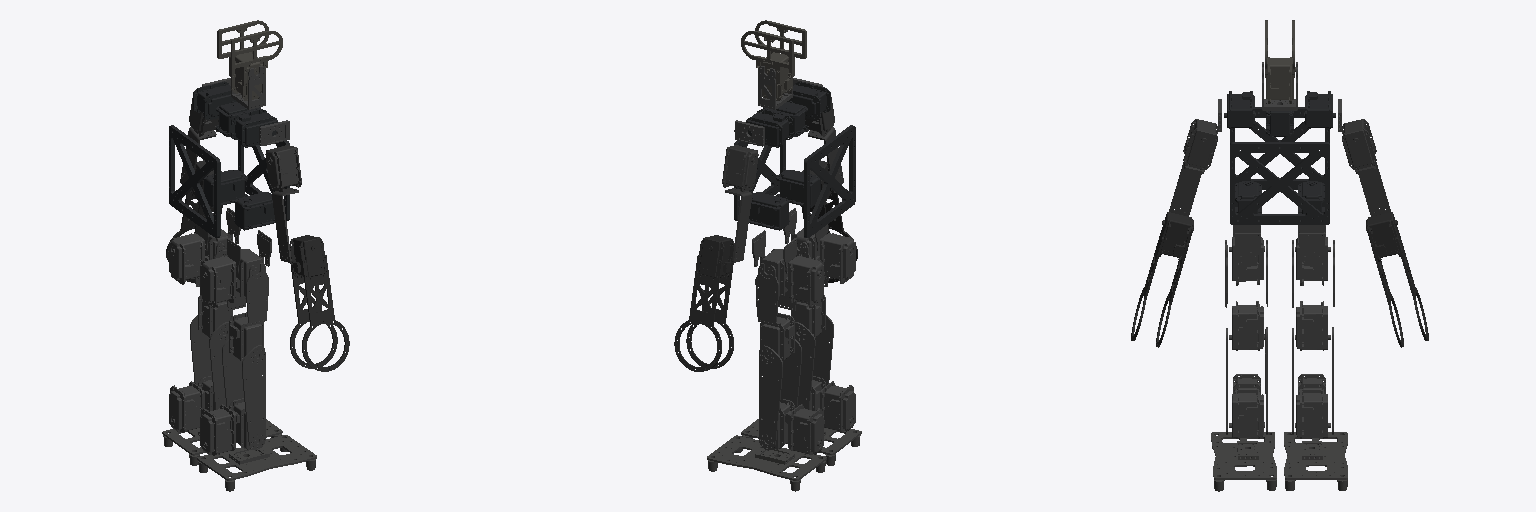
--- Render facts (derived) ---
The picture shows the robot from 3 angles, left to right: view 1: azimuth 30°, elevation 25°; view 2: azimuth 150°, elevation 25°; view 3: azimuth 270°, elevation 25°; orthographic projection.
Robot: sigmaban — 31 links, 30 joints (20 revolute, 10 fixed); root link base_link; default pose: every joint at zero.
Visible links, largest first — view 1: torso_2023, radius_v2_2, tibia_2023_2, right_foot_cleat_back_left, right_knee_2023, head_2023__field_of_view_false, mx106_block_mir_hip__list_mr67plvazplf9a_hip, right_humerus, mx106_block_ankle__list_0bj1pweadmbeeq_default, tibia_2023, mx106_block_hip__list_0bj1pweadmbeeq_hip, mx106_block_mir_ankle (+7 smaller); view 2: torso_2023, radius_v2, tibia_2023, left_foot_cleat_front_right, left_knee_2023, head_2023__field_of_view_false, left_humerus, mx106_block_hip__list_0bj1pweadmbeeq_hip, mx106_block_mir_ankle, tibia_2023_2, mx106_block_mir_hip__list_mr67plvazplf9a_hip, mx106_block_ankle__list_0bj1pweadmbeeq_default (+7 smaller); view 3: torso_2023, right_foot_cleat_back_left, left_foot_cleat_front_right, left_humerus, right_humerus, radius_v2, radius_v2_2, mx106_block_mir_ankle, mx106_block_ankle__list_0bj1pweadmbeeq_default, right_knee_2023, left_knee_2023, head_2023__field_of_view_false (+5 smaller).
Boxes of the visible links, x1,y1,x2,y2 form: torso_2023: [169, 81, 289, 237]; radius_v2_2: [290, 235, 349, 371]; tibia_2023_2: [222, 339, 265, 449]; right_foot_cleat_back_left: [197, 435, 316, 491]; right_knee_2023: [227, 263, 268, 361]; head_2023__field_of_view_false: [217, 20, 282, 100]; mx106_block_mir_hip__list_mr67plvazplf9a_hip: [200, 249, 263, 307]; right_humerus: [265, 145, 301, 262]; mx106_block_ankle__list_0bj1pweadmbeeq_default: [200, 398, 261, 455]; tibia_2023: [190, 315, 228, 409]; mx106_block_hip__list_0bj1pweadmbeeq_hip: [169, 229, 232, 284]; mx106_block_mir_ankle: [169, 376, 217, 432]; torso_2023: [734, 82, 855, 237]; radius_v2: [674, 235, 734, 371]; tibia_2023: [759, 339, 801, 449]; left_foot_cleat_front_right: [707, 435, 826, 491]; left_knee_2023: [755, 249, 796, 360]; head_2023__field_of_view_false: [741, 20, 806, 100]; left_humerus: [722, 145, 758, 262]; mx106_block_hip__list_0bj1pweadmbeeq_hip: [760, 249, 823, 306]; mx106_block_mir_ankle: [765, 399, 823, 454]; tibia_2023_2: [795, 315, 833, 409]; mx106_block_mir_hip__list_mr67plvazplf9a_hip: [791, 228, 855, 283]; mx106_block_ankle__list_0bj1pweadmbeeq_default: [810, 376, 855, 432]; torso_2023: [1224, 91, 1335, 224]; right_foot_cleat_back_left: [1211, 432, 1276, 491]; left_foot_cleat_front_right: [1284, 432, 1347, 490]; left_humerus: [1342, 119, 1390, 216]; right_humerus: [1169, 119, 1217, 216]; radius_v2: [1366, 212, 1428, 347]; radius_v2_2: [1131, 212, 1193, 347]; mx106_block_mir_ankle: [1295, 374, 1330, 438]; mx106_block_ankle__list_0bj1pweadmbeeq_default: [1229, 374, 1264, 438]; right_knee_2023: [1225, 240, 1267, 350]; left_knee_2023: [1292, 240, 1334, 350]; head_2023__field_of_view_false: [1265, 20, 1295, 103].
Size in the robot's own frame: 0.1692 by 0.4293 by 0.7013 metres.
21 mesh visuals loaded from 21 distinct referenced files (21 binary STL).

The robot description file, URDF, robot "sigmaban":
<robot name="sigmaban">

<link name="base_link" />

<!-- Shapes for x_plate_23_front -->
<link name="torso_2023">
<collision>
<origin xyz="0.060389204868665502524 1.4717405120971200828e-07 0.068082300000000012252" rpy="-1.570796326794896558 6.895308295167207679e-17 -1.570796326794896558" />
<geometry>
<box size="0.14499999999999999001 0.1155920000000000003 0.0060000000000000001249" />
</geometry>
</collision>
<!-- Shapes for mx-64at_ar -->
<collision>
<origin xyz="0.020939204868665975412 0.046400147174051414867 0.02200000000001074707" rpy="3.1415926535897691352 -1.3138215008622163751e-14 -1.570796326794896336" />
<geometry>
<box size="0.040199999999999999623 0.061100000000000001532 0.041000000000000001721" />
</geometry>
</collision>
<!-- Shapes for mx-64at_ar -->
<collision>
<origin xyz="0.020939204868666350112 -0.046399852825948745272 0.02200000000001099687" rpy="3.1415926535897495953 -1.2771348726224209355e-14 -1.5707963267949036634" />
<geometry>
<box size="0.040199999999999999623 0.061100000000000001532 0.041000000000000001721" />
</geometry>
</collision>
<!-- Shapes for mx-64at_ar -->
<collision>
<origin xyz="0.01583920486865465771 1.471740505627167706e-07 0.15700000000000038924" rpy="-2.0985643641962011544e-15 -2.5607325653630936744e-16 -1.570796326794896558" />
<geometry>
<box size="0.040199999999999999623 0.061100000000000001532 0.041000000000000001721" />
</geometry>
</collision>
<!-- Shapes for x_plate_23_front -->
<collision>
<origin xyz="-0.059610795131336914709 1.4717404883173641263e-07 0.071917699999998543903" rpy="1.5707963267948952257 7.9211561423418466212e-15 1.570796326794896558" />
<geometry>
<box size="0.14499999999999999001 0.1155920000000000003 0.0060000000000000001249" />
</geometry>
</collision>
<!-- Shapes for mx-64at_ar -->
<collision>
<origin xyz="0.010839204868674762183 0.056000147174040608433 0.16400000000000933276" rpy="-1.5707963267948805708 -1.5707963267948898967 0" />
<geometry>
<box size="0.040199999999999999623 0.061100000000000001532 0.041000000000000001721" />
</geometry>
</collision>
<!-- Shapes for mx-64at_ar -->
<collision>
<origin xyz="0.010839204868674713611 -0.055999852825940207857 0.16400000000001024869" rpy="1.5707963267948803487 1.5707963267948898967 0" />
<geometry>
<box size="0.040199999999999999623 0.061100000000000001532 0.041000000000000001721" />
</geometry>
</collision>
<visual>
<origin xyz="0 0 0" rpy="0 -0 0" />
<geometry>
<mesh filename="package://sigmaban_description/urdf/torso_2023_visual.stl"/>
</geometry>
<material name="torso_2023_material">
<color rgba="0.19899150351318967145 0.20531734779085583642 0.21164319206852200139 1.0"/>
</material>
</visual>
<inertial>
<origin xyz="0.002404191551789617437 0.00058179701409666133814 0.069312406945558138749" rpy="0 0 0"/>
<mass value="3.209475452296372211" />
<inertia ixx="0.018197261163386959509" ixy="3.9679899281069150514e-05"  ixz="0.00040820634538382894645" iyy="0.016253016131205444417" iyz="-0.0001554682564299787826" izz="0.010276323694102498102" />
</inertial>
</link>

<joint name="base_link_fake_joint" type="fixed">
    <origin xyz="0 0 0" rpy="0 0 0"/>
    <parent link="base_link"/>
    <child link="torso_2023"/>
</joint>

<link name="head_base">
<inertial>
<origin xyz="0 0 0" rpy="0 0 0" />
<mass value="1e-9" />
<inertia ixx="0" ixy="0" ixz="0" iyy="0" iyz="0" izz="0" />
</inertial>
</link>
<joint name="head_base_frame" type="fixed">
<origin xyz="0.033389204868654910607 1.4717405055631460442e-07 0.18300000000001087619" rpy="-1.2246467991473633145e-16 -2.2088105346187814874e-29 1.4393641492882479269e-28" />
<parent link="torso_2023" />
<child link="head_base" />
<axis xyz="0 0 0"/>
</joint>

<link name="trunk">
<inertial>
<origin xyz="0 0 0" rpy="0 0 0" />
<mass value="1e-9" />
<inertia ixx="0" ixy="0" ixz="0" iyy="0" iyz="0" izz="0" />
</inertial>
</link>
<joint name="trunk_frame" type="fixed">
<origin xyz="0.060889204868665502968 1.4717405119935517762e-07 0.0024999999999999996184" rpy="-8.2672622867162037207e-28 -0 -2.2402855000300105724e-59" />
<parent link="torso_2023" />
<child link="trunk" />
<axis xyz="0 0 0"/>
</joint>

<link name="u_neck">
<!-- Shapes for u_side_neck -->
<collision>
<origin xyz="0.024999999999999980571 1.9733087385364363632e-16 0.032901041851021092799" rpy="1.5707963267948976682 3.8654184355828463032e-29 -1.5707963267948958919" />
<geometry>
<box size="0.02999999999999999889 0.065802000000000013258 0.0030000000000000000625" />
</geometry>
</collision>
<!-- Shapes for u_side_neck -->
<collision>
<origin xyz="-0.024999999999999966693 -6.3823946217424702993e-18 0.032901041851021231577" rpy="1.570796326794896558 -1.1832913578314774909e-29 1.5707963267948970021" />
<geometry>
<box size="0.02999999999999999889 0.065802000000000013258 0.0030000000000000000625" />
</geometry>
</collision>
<!-- Shapes for u_base_64 -->
<collision>
<origin xyz="0 6.9388939039072299184e-18 0.0031250000000000001735" rpy="-3.141592653589793116 -0 6.6680722587749828369e-32" />
<geometry>
<box size="0.049000000000000001887 0.02999999999999999889 0.0062500000000000003469" />
</geometry>
</collision>
<visual>
<origin xyz="0 0 0" rpy="0 -0 0" />
<geometry>
<mesh filename="package://sigmaban_description/urdf/u_neck_visual.stl"/>
</geometry>
<material name="u_neck_material">
<color rgba="0.30196078431372541662 0.30196078431372541662 0.30196078431372541662 1.0"/>
</material>
</visual>
<inertial>
<origin xyz="6.2190491371535006904e-18 5.9578490733930535427e-17 0.020633402679855899348" rpy="0 0 0"/>
<mass value="0.054479900613359222294" />
<inertia ixx="3.0578702573708491281e-05" ixy="-1.35944226682749599e-11"  ixz="8.6291481501531847043e-20" iyy="5.16951967684507277e-05" iyz="-1.3658406274475592967e-20" izz="2.9852490907290876406e-05" />
</inertial>
</link>

<link name="head_2023__field_of_view_false">
<!-- Shapes for head_plate_g_2023 -->
<collision>
<origin xyz="-0.023800000000009986778 0.03650000000001005912 -0.0049999999999899985559" rpy="-3.141592653589793116 8.3007013600425831728e-32 3.141592653589793116" />
<geometry>
<cylinder length="0.0030000000000000000625" radius="0.023500000000000000056" />
</geometry>
</collision>
<collision>
<origin xyz="0.0099999999999900099357 0.03650000000001005912 -0.0049999999999899985559" rpy="-3.141592653589793116 8.3007013600425831728e-32 3.141592653589793116" />
<geometry>
<box size="0.061600000000000001976 0.047000000000000000111 0.0030000000000000000625" />
</geometry>
</collision>
<!-- Shapes for head_plate_d_2023 -->
<collision>
<origin xyz="-0.023799999999999980893 0.036500000000000011602 -0.049000000000000001887" rpy="-3.141592653589793116 8.3007013600425831728e-32 3.141592653589793116" />
<geometry>
<cylinder length="0.0030000000000000000625" radius="0.023500000000000000056" />
</geometry>
</collision>
<collision>
<origin xyz="0.010000000000000015821 0.036500000000000011602 -0.049000000000000001887" rpy="-3.141592653589793116 8.3007013600425831728e-32 3.141592653589793116" />
<geometry>
<box size="0.061600000000000001976 0.047000000000000000111 0.0030000000000000000625" />
</geometry>
</collision>
<!-- Shapes for mx-64at_ar -->
<collision>
<origin xyz="6.9222544433143798142e-33 -0.017549999999999975342 -0.023500000000000000056" rpy="-4.9303806576313237838e-32 -8.3007013600425831728e-32 0" />
<geometry>
<box size="0.040199999999999999623 0.061100000000000001532 0.041000000000000001721" />
</geometry>
</collision>
<visual>
<origin xyz="0 0 0" rpy="0 -0 0" />
<geometry>
<mesh filename="package://sigmaban_description/urdf/head_2023__field_of_view_false_visual.stl"/>
</geometry>
<material name="head_2023__field_of_view_false_material">
<color rgba="0.32045575682762955649 0.3148738338185399499 0.29812806479127113013 1.0"/>
</material>
</visual>
<inertial>
<origin xyz="-0.00014727358172439604118 0.004188973710585135353 -0.022194668178046370044" rpy="0 0 0"/>
<mass value="0.2442753572452601718" />
<inertia ixx="0.00024412764562559184991" ixy="5.0115087234599496772e-06"  ixz="5.8509375179164991778e-07" iyy="9.8460636778300379798e-05" iyz="4.8564002640062205055e-06" izz="0.00024462482752841290846" />
</inertial>
</link>

<link name="camera">
<inertial>
<origin xyz="0 0 0" rpy="0 0 0" />
<mass value="1e-9" />
<inertia ixx="0" ixy="0" ixz="0" iyy="0" iyz="0" izz="0" />
</inertial>
</link>
<joint name="camera_frame" type="fixed">
<origin xyz="-0.024933000004024159779 0.033500000000055651928 -0.023500000000000031281" rpy="3.1415926535897926719 1.5707963267948934494 0" />
<parent link="head_2023__field_of_view_false" />
<child link="camera" />
<axis xyz="0 0 0"/>
</joint>

<joint name="HeadTilt" type="revolute">
<origin xyz="-0.023500000000000478839 0 0.058302041851021751961" rpy="1.570796326794896558 1.0090503962456224389e-14 -1.5707963267949012209" />
<parent link="u_neck" />
<child link="head_2023__field_of_view_false" />
<axis xyz="0 0 1"/>
<limit effort="10" velocity="6" lower="-0.785398163397448279" upper="1.570796326794896558"/>
<joint_properties friction="0.0"/>
</joint>

<joint name="HeadPan" type="revolute">
<origin xyz="0.033389204868654723257 1.4717405055870088152e-07 0.18050000000001087397" rpy="-2.0985643641961916881e-15 -2.5607325488194789582e-16 -1.5707963267948958919" />
<parent link="torso_2023" />
<child link="u_neck" />
<axis xyz="0 0 1"/>
<limit effort="10" velocity="6" lower="-2.0943951023931952626" upper="2.0943951023931952626"/>
<joint_properties friction="0.0"/>
</joint>

<link name="u_shoulder_2023">
<!-- Shapes for u_base_64 -->
<collision>
<origin xyz="6.9388939039072260665e-18 -2.7755575615628913511e-17 0.0071249999999999898484" rpy="3.141592653589793116 -7.6522649634278952728e-31 0" />
<geometry>
<box size="0.049000000000000001887 0.02999999999999999889 0.0062500000000000003469" />
</geometry>
</collision>
<visual>
<origin xyz="0 0 0" rpy="0 -0 0" />
<geometry>
<mesh filename="package://sigmaban_description/urdf/u_shoulder_2023_visual.stl"/>
</geometry>
<material name="u_shoulder_2023_material">
<color rgba="0.30196078431372547213 0.30196078431372547213 0.30196078431372547213 1.0"/>
</material>
</visual>
<inertial>
<origin xyz="2.4424894614099603073e-18 0.0049396691582913390683 0.016218911071912058691" rpy="0 0 0"/>
<mass value="0.063115931035088973511" />
<inertia ixx="1.953710958907587769e-05" ixy="8.0865176683183985495e-21"  ixz="2.9910850949917480723e-21" iyy="3.797873232270680368e-05" iyz="-4.2793411691716059055e-06" izz="3.8321411352794628792e-05" />
</inertial>
</link>

<link name="left_humerus">
<!-- Shapes for mx-64at_ar -->
<collision>
<origin xyz="-2.7268465263574627341e-17 -0.017549999999999201655 -0.023500000000009992063" rpy="1.1349789930213770448e-16 4.141519752410504657e-30 5.5511151231260415471e-17" />
<geometry>
<box size="0.040199999999999999623 0.061100000000000001532 0.041000000000000001721" />
</geometry>
</collision>
<!-- Shapes for humerus_plate -->
<collision>
<origin xyz="-9.7404723176097718351e-15 -0.10450000000001578859 -0.040000000000000236755" rpy="-3.141592653589793116 9.9803458132119541838e-16 -1.5707963267948958919" />
<geometry>
<box size="0.10499999999999999611 0.02999999999999999889 0.0030000000000000000625" />
</geometry>
</collision>
<visual>
<origin xyz="0 0 0" rpy="0 -0 0" />
<geometry>
<mesh filename="package://sigmaban_description/urdf/left_humerus_visual.stl"/>
</geometry>
<material name="left_humerus_material">
<color rgba="0.26470081700903547173 0.26470081700903547173 0.26470081700903547173 1.0"/>
</material>
</visual>
<inertial>
<origin xyz="5.6943617024147799295e-05 -0.048319510719950012345 -0.024575881071813601014" rpy="0 0 0"/>
<mass value="0.21354801913329538032" />
<inertia ixx="0.00058096798203317672436" ixy="-6.2560841153511995456e-07"  ixz="5.9950522391738340977e-07" iyy="6.2506691086893211452e-05" iyz="-4.7119123519259538857e-05" izz="0.00056596906011033081777" />
</inertial>
</link>

<link name="radius_v2">
<!-- Shapes for hand_2023 -->
<collision>
<origin xyz="2.3314683517128287349e-15 -0.14960000000000389653 -0.04200000000000708722" rpy="8.5789493427639171835e-16 -1.4349632593279760165e-14 -1.5707963267948807928" />
<geometry>
<cylinder length="0.0030000000000000000625" radius="0.040000000000000000833" />
</geometry>
</collision>
<collision>
<origin xyz="9.950017590433736978e-16 -0.064975600000001590417 -0.042000000000008301526" rpy="8.5789493427639171835e-16 -1.4349632593279760165e-14 -1.5707963267948807928" />
<geometry>
<box size="0.099551199999999992474 0.041200000000000000511 0.0030000000000000000625" />
</geometry>
</collision>
<!-- Shapes for mx-64at_ar -->
<collision>
<origin xyz="2.7716579020276322994e-16 -0.017550000000000353512 -0.023500000000009339807" rpy="-1.4627188349436689856e-14 -1.7291397324641162744e-15 -3.3085993879108190798e-24" />
<geometry>
<box size="0.040199999999999999623 0.061100000000000001532 0.041000000000000001721" />
</geometry>
</collision>
<!-- Shapes for hand_2023 -->
<collision>
<origin xyz="2.2620794126737568455e-15 -0.14960000000000434062 -0.0050000000000077768694" rpy="1.5801403290851799135e-15 -1.4099832412738820687e-14 -1.5707963267948807928" />
<geometry>
<cylinder length="0.0030000000000000000625" radius="0.040000000000000000833" />
</geometry>
</collision>
<collision>
<origin xyz="9.2561282028426519106e-16 -0.064975600000000327539 -0.0050000000000089694918" rpy="1.5801403290851799135e-15 -1.4099832412738820687e-14 -1.5707963267948807928" />
<geometry>
<box size="0.099551199999999992474 0.041200000000000000511 0.0030000000000000000625" />
</geometry>
</collision>
<visual>
<origin xyz="0 0 0" rpy="0 -0 0" />
<geometry>
<mesh filename="package://sigmaban_description/urdf/radius_v2_visual.stl"/>
</geometry>
<material name="radius_v2_material">
<color rgba="0.21421337674205653823 0.21421337674205653823 0.21421337674205653823 1.0"/>
</material>
</visual>
<inertial>
<origin xyz="8.4068843436831345163e-05 -0.058656980732179446469 -0.022253253402805699135" rpy="0 0 0"/>
<mass value="0.24385614723354964717" />
<inertia ixx="0.00088750206453679482757" ixy="-8.5350141283946978968e-07"  ixz="6.3814753118080238269e-07" iyy="0.00012329082294249270888" iyz="-1.4900103353591719914e-05" izz="0.00090346747116607385025" />
</inertial>
</link>

<joint name="LElbow" type="revolute">
<origin xyz="0.023499999999999215961 -0.14200000000002438449 -0.0024999999999901836856" rpy="-2.0539125955565735208e-15 1.5707963267948905628 0" />
<parent link="left_humerus" />
<child link="radius_v2" />
<axis xyz="0 0 1"/>
<limit effort="10" velocity="6" lower="-2.7925268031909271649" upper="0.26179938779914940783"/>
<joint_properties friction="0.0"/>
</joint>


<link name="l_wrist"/>
<joint name="LWrist" type="fixed">
<origin xyz="0 0 0" rpy="0 0 0" />
<parent link="radius_v2" />
<child link="l_wrist" />
</joint>

<joint name="LShoulderRoll" type="revolute">
<origin xyz="0.023500000000000003525 0.030000000000000026645 0.030000000000000040523" rpy="-1.570796326794896558 -1.3089969389957472057 -1.5707963267948776842" />
<parent link="u_shoulder_2023" />
<child link="left_humerus" />
<axis xyz="0 0 1"/>
<limit effort="10" velocity="6" lower="-0.26179938779914940783" upper="1.3089969389957472057"/>
<joint_properties friction="0.0"/>
</joint>

<joint name="LShoulderPitch" type="revolute">
<origin xyz="0.028389204868674390581 0.079500147174040886044 0.16400000000000944378" rpy="-1.5707963267948972241 -6.7723604502158080687e-15 1.5994042028286861822e-14" />
<parent link="torso_2023" />
<child link="u_shoulder_2023" />
<axis xyz="0 0 1"/>
<limit effort="10" velocity="6" lower="-2.1816615649929120835" upper="2.1816615649929120835"/>
<joint_properties friction="0.0"/>
</joint>

<link name="u_shoulder_2023_2">
<!-- Shapes for u_base_64 -->
<collision>
<origin xyz="3.2699529172686476008e-33 0 -0.0071250000000000037262" rpy="0 3.7607829462383170689e-31 0" />
<geometry>
<box size="0.049000000000000001887 0.02999999999999999889 0.0062500000000000003469" />
</geometry>
</collision>
<visual>
<origin xyz="0 0 0" rpy="0 -0 0" />
<geometry>
<mesh filename="package://sigmaban_description/urdf/u_shoulder_2023_2_visual.stl"/>
</geometry>
<material name="u_shoulder_2023_2_material">
<color rgba="0.30196078431372547213 0.30196078431372547213 0.30196078431372547213 1.0"/>
</material>
</visual>
<inertial>
<origin xyz="1.0467811977471260936e-18 -0.004939669158291338201 -0.016218911071912076038" rpy="0 0 0"/>
<mass value="0.063115931035088959633" />
<inertia ixx="1.9537109589075860749e-05" ixy="9.4894159872083334861e-21"  ixz="-1.1249656330721176378e-22" iyy="3.7978732322706796904e-05" iyz="-4.2793411691715999763e-06" izz="3.8321411352794601687e-05" />
</inertial>
</link>

<link name="right_humerus">
<!-- Shapes for humerus_plate -->
<collision>
<origin xyz="1.7347234759768070944e-18 -0.10450000000000948808 -0.040000000000000042466" rpy="-3.1415926535897922278 9.6043344093044080964e-16 -1.5707963267948972241" />
<geometry>
<box size="0.10499999999999999611 0.02999999999999999889 0.0030000000000000000625" />
</geometry>
</collision>
<!-- Shapes for mx-64at_ar -->
<collision>
<origin xyz="0 -0.017549999999999999628 -0.023499999999999996586" rpy="-7.8886090522101180541e-31 -3.9443045261050590271e-31 5.5511151231257827021e-17" />
<geometry>
<box size="0.040199999999999999623 0.061100000000000001532 0.041000000000000001721" />
</geometry>
</collision>
<visual>
<origin xyz="0 0 0" rpy="0 -0 0" />
<geometry>
<mesh filename="package://sigmaban_description/urdf/right_humerus_visual.stl"/>
</geometry>
<material name="right_humerus_material">
<color rgba="0.26470081700903547173 0.26470081700903547173 0.26470081700903547173 1.0"/>
</material>
</visual>
<inertial>
<origin xyz="0.00013505725925222261327 -0.04831951073071154984 -0.024558474479375511784" rpy="0 0 0"/>
<mass value="0.21354801913329532481" />
<inertia ixx="0.00058097591616929793786" ixy="-6.5754355948998949182e-07"  ixz="5.8206046435963933794e-07" iyy="6.2511422023192716926e-05" iyz="-4.7130347402953834315e-05" izz="0.0005659658577717034721" />
</inertial>
</link>

<link name="radius_v2_2">
<!-- Shapes for hand_2023 -->
<collision>
<origin xyz="-1.0120376758848704027e-15 0.14960000000000850395 0.0050000000000103329845" rpy="3.1415926535897917837 1.6098233857063850813e-15 1.5707963267949021091" />
<geometry>
<cylinder length="0.0030000000000000000625" radius="0.040000000000000000833" />
</geometry>
</collision>
<collision>
<origin xyz="-5.5402188392501099437e-16 0.064975600000003658208 0.0050000000000104691603" rpy="3.1415926535897917837 1.6098233857063850813e-15 1.5707963267949021091" />
<geometry>
<box size="0.099551199999999992474 0.041200000000000000511 0.0030000000000000000625" />
</geometry>
</collision>
<!-- Shapes for hand_2023 -->
<collision>
<origin xyz="-8.5942364336233482337e-16 0.14960000000000839293 0.042000000000012124857" rpy="3.1415926535897922278 1.9984014443251693601e-15 1.5707963267949023312" />
<geometry>
<cylinder length="0.0030000000000000000625" radius="0.040000000000000000833" />
</geometry>
</collision>
<collision>
<origin xyz="-3.8496625887058528284e-16 0.064975600000003616574 0.042000000000012298329" rpy="3.1415926535897922278 1.9984014443251693601e-15 1.5707963267949023312" />
<geometry>
<box size="0.099551199999999992474 0.041200000000000000511 0.0030000000000000000625" />
</geometry>
</collision>
<!-- Shapes for mx-64at_ar -->
<collision>
<origin xyz="-1.1276118927484529748e-16 0.017550000000001019645 0.023500000000011341678" rpy="3.1415926535897913396 1.1729299448981592607e-17 3.1428563154283590482e-18" />
<geometry>
<box size="0.040199999999999999623 0.061100000000000001532 0.041000000000000001721" />
</geometry>
</collision>
<visual>
<origin xyz="0 0 0" rpy="0 -0 0" />
<geometry>
<mesh filename="package://sigmaban_description/urdf/radius_v2_2_visual.stl"/>
</geometry>
<material name="radius_v2_2_material">
<color rgba="0.21421337674205653823 0.21421337674205653823 0.21421337674205653823 1.0"/>
</material>
</visual>
<inertial>
<origin xyz="8.4068843435550400954e-05 0.058656980732181396299 0.022253253402808172851" rpy="0 0 0"/>
<mass value="0.2438561472335495639" />
<inertia ixx="0.00088750206453684437561" ixy="8.5350141285283766365e-07"  ixz="-6.381475311803566316e-07" iyy="0.00012329082294250184328" iyz="-1.4900103353600539221e-05" izz="0.00090346747116614323919" />
</inertial>
</link>

<joint name="RElbow" type="revolute">
<origin xyz="-0.023500000000009346746 -0.1420000000000189444 -0.0024999999999904057302" rpy="-3.141592653589793116 -1.5707963267948925612 0" />
<parent link="right_humerus" />
<child link="radius_v2_2" />
<axis xyz="0 0 1"/>
<limit effort="10" velocity="6" lower="-2.7925268031909271649" upper="0.26179938779914940783"/>
<joint_properties friction="0.0"/>
</joint>

<link name="r_wrist"/>
<joint name="RWrist" type="fixed">
<origin xyz="0 0 0" rpy="0 0 0" />
<parent link="radius_v2_2" />
<child link="r_wrist" />
</joint>

<joint name="RShoulderRoll" type="revolute">
<origin xyz="-0.02349999999998999764 -0.029999999999999971134 -0.030000000000000026645" rpy="1.570796326794896558 -1.3089969389957472057 -1.5707963267948921171" />
<parent link="u_shoulder_2023_2" />
<child link="right_humerus" />
<axis xyz="0 0 1"/>
<limit effort="10" velocity="6" lower="-1.3089969389957472057" upper="0.26179938779914940783"/>
<joint_properties friction="0.0"/>
</joint>

<joint name="RShoulderPitch" type="revolute">
<origin xyz="0.028389204868675101817 -0.079499852825939937295 0.16400000000001035971" rpy="1.5707963268037437032 6.7723604502158104352e-15 -3.1415926535897766847" />
<parent link="torso_2023" />
<child link="u_shoulder_2023_2" />
<axis xyz="0 0 1"/>
<limit effort="10" velocity="6" lower="-2.1816615649929120835" upper="2.1816615649929120835"/>
<joint_properties friction="0.0"/>
</joint>

<link name="u_block_2023">
<!-- Shapes for u_side_small_2023 -->
<collision>
<origin xyz="-0.031440000000000009606 3.4694469519536141888e-18 -0.023750000000000003747" rpy="1.570796326794896558 6.310887241768093042e-30 1.570796326794896558" />
<geometry>
<box size="0.037499999999999998612 0.047500000000000000555 0.0030000000000000000625" />
</geometry>
</collision>
<!-- Shapes for u_side_small_with_trace_2023 -->
<collision>
<origin xyz="0.02189999999999998892 6.9388939039072283776e-18 -0.023750000000000000278" rpy="-1.570796326794896558 -1.2621774483536186084e-29 -1.57079632679489678" />
<geometry>
<box size="0.037499999999999998612 0.047500000000000000555 0.0030000000000000000625" />
</geometry>
</collision>
<visual>
<origin xyz="0 0 0" rpy="0 -0 0" />
<geometry>
<mesh filename="package://sigmaban_description/urdf/u_block_2023_visual.stl"/>
</geometry>
<material name="u_block_2023_material">
<color rgba="0.30196078431372547213 0.30196078431372547213 0.30196078431372547213 1.0"/>
</material>
</visual>
<inertial>
<origin xyz="-0.0050952800776957766701 9.7644663469321402356e-06 -0.0098513101413465718748" rpy="0 0 0"/>
<mass value="0.063013635376408735911" />
<inertia ixx="2.0269572434619567789e-05" ixy="1.8445701181431763189e-08"  ixz="-2.0238661272364778972e-06" iyy="4.242644375039842286e-05" iyz="1.5885140541300664519e-08" izz="3.5257525466159230149e-05" />
</inertial>
</link>

<link name="mx106_block_hip__list_0bj1pweadmbeeq_hip">
<!-- Shapes for mx106 -->
<collision>
<origin xyz="-1.3877787807814228725e-17 -0.018050000000000003542 -0.025999999999999995337" rpy="0 8.6736173924775835263e-19 -6.3108872417680944433e-30" />
<geometry>
<box size="0.040199999999999999623 0.065099999999999991207 0.045999999999999999223" />
</geometry>
</collision>
<!-- Shapes for mx106 -->
<collision>
<origin xyz="-5.3096416152698375025e-16 -0.018050000000003157269 0.023400000000023329222" rpy="4.5186077102243625071e-14 1.5707963267948559238 0" />
<geometry>
<box size="0.040199999999999999623 0.065099999999999991207 0.045999999999999999223" />
</geometry>
</collision>
<visual>
<origin xyz="0 0 0" rpy="0 -0 0" />
<geometry>
<mesh filename="package://sigmaban_description/urdf/mx106_block_hip__list_0bj1pweadmbeeq_hip_visual.stl"/>
</geometry>
<material name="mx106_block_hip__list_0bj1pweadmbeeq_hip_material">
<color rgba="0.30196078431372547213 0.30196078431372547213 0.30196078431372547213 1.0"/>
</material>
</visual>
<inertial>
<origin xyz="-0.00052517765759452336629 -0.015396401985203247639 0.0038303184852019494556" rpy="0 0 0"/>
<mass value="0.39709667579512258895" />
<inertia ixx="0.00042862260505794458733" ixy="2.0806166038692639799e-06"  ixz="4.0772710547725568797e-06" iyy="0.00037083252140591576066" iyz="-3.1158102365651866282e-05" izz="0.00018178857406348238024" />
</inertial>
</link>

<link name="left_knee_2023">
<!-- Shapes for mx106 -->
<collision>
<origin xyz="1.6171271352083070381e-16 0.1219500000000218326 -0.029500000000001719291" rpy="-1.2212453270869655723e-15 3.6419652016395373155e-14 8.8149932579980409148e-15" />
<geometry>
<box size="0.040199999999999999623 0.065099999999999991207 0.045999999999999999223" />
</geometry>
</collision>
<!-- Shapes for u_side_femur_mir_2023 -->
<collision>
<origin xyz="7.3155695846210832323e-16 0.03724999999999987349 -0.056999999999998170186" rpy="3.1415926535897678029 8.0177184336170216939e-14 4.6345982414074152745e-14" />
<geometry>
<box size="0.02999999999999999889 0.096500000000000002442 0.0030000000000000000625" />
</geometry>
</collision>
<!-- Shapes for u_side_femur_2023 -->
<collision>
<origin xyz="1.0857104619941809451e-30 0.037249999999999991451 0.0015000000000000303889" rpy="-6.3108872417680944433e-30 -8.6736173726459660735e-19 -3.1554436208840472216e-30" />
<geometry>
<box size="0.02999999999999999889 0.096500000000000002442 0.0030000000000000000625" />
</geometry>
</collision>
<visual>
<origin xyz="0 0 0" rpy="0 -0 0" />
<geometry>
<mesh filename="package://sigmaban_description/urdf/left_knee_2023_visual.stl"/>
</geometry>
<material name="left_knee_2023_material">
<color rgba="0.30196078431372547213 0.30196078431372547213 0.30196078431372547213 1.0"/>
</material>
</visual>
<inertial>
<origin xyz="-3.0553573383180897976e-05 0.10076603301830913684 -0.029713754998557023734" rpy="0 0 0"/>
<mass value="0.2677691867359469069" />
<inertia ixx="0.00053571701931061236138" ixy="-1.3722075397623253609e-07"  ixz="6.3727683447587735337e-09" iyy="0.00012197186231223949165" iyz="1.3660400579921389087e-05" izz="0.0004590485175473826493" />
</inertial>
</link>

<link name="tibia_2023">
<!-- Shapes for tibia_plate_2023 -->
<collision>
<origin xyz="-0.0062131000000000009137 0.068950999999999970647 0.0015000000000000021996" rpy="3.141592653589793116 -7.5508931389136273186e-28 3.141592653589793116" />
<geometry>
<box size="0.04042620000000000241 0.1700990000000000002 0.0030000000000000000625" />
</geometry>
</collision>
<!-- Shapes for tibia_plate_2023 -->
<collision>
<origin xyz="-0.0062131000000000703026 0.068951000000002218848 -0.055939999999999809321" rpy="3.141592653589793116 6.9388939031522946543e-18 -3.141592653589793116" />
<geometry>
<box size="0.04042620000000000241 0.1700990000000000002 0.0030000000000000000625" />
</geometry>
</collision>
<visual>
<origin xyz="0 0 0" rpy="0 -0 0" />
<geometry>
<mesh filename="package://sigmaban_description/urdf/tibia_2023_visual.stl"/>
</geometry>
<material name="tibia_2023_material">
<color rgba="0.30196078431372547213 0.30196078431372547213 0.30196078431372547213 1.0"/>
</material>
</visual>
<inertial>
<origin xyz="-0.0028913753365941005299 0.065442665826062410006 -0.027705371350447639128" rpy="0 0 0"/>
<mass value="0.10514218166037306301" />
<inertia ixx="0.00034688180105246974646" ixy="-6.3819851304368827632e-06"  ixz="1.4756104806406160047e-07" iyy="9.8374305485239240711e-05" iyz="2.3259862708943979779e-07" izz="0.00026979716953320361612" />
</inertial>
</link>

<link name="mx106_block_mir_ankle">
<!-- Shapes for mx106 -->
<collision>
<origin xyz="-2.4709714430828168791e-15 0.018050000000000336609 -0.028500000000006901757" rpy="-1.0530465392209239822e-13 -2.3732751874837530345e-14 3.1415926535897851224" />
<geometry>
<box size="0.040199999999999999623 0.065099999999999991207 0.045999999999999999223" />
</geometry>
</collision>
<!-- Shapes for mx106 -->
<collision>
<origin xyz="0.049400000000019546331 0.018050000000001946432 -0.028500000000009739765" rpy="-3.1415926535897917837 1.5707963267948961139 0" />
<geometry>
<box size="0.040199999999999999623 0.065099999999999991207 0.045999999999999999223" />
</geometry>
</collision>
<visual>
<origin xyz="0 0 0" rpy="0 -0 0" />
<geometry>
<mesh filename="package://sigmaban_description/urdf/mx106_block_mir_ankle_visual.stl"/>
</geometry>
<material name="mx106_block_mir_ankle_material">
<color rgba="0.30196078431372547213 0.30196078431372547213 0.30196078431372547213 1.0"/>
</material>
</visual>
<inertial>
<origin xyz="0.019569546325788403363 0.015396401985194207995 -0.029027444726314407392" rpy="0 0 0"/>
<mass value="0.39709667579512253344" />
<inertia ixx="0.0001817878523649805306" ixy="-3.1147027124168910053e-05"  ixz="-4.0741771018149208064e-06" iyy="0.00037083367389992484163" iyz="-2.0892224411081371265e-06" izz="0.00042862447925065669165" />
</inertial>
</link>

<link name="left_foot_cleat_front_right">
<!-- Shapes for cleat -->
<collision>
<origin xyz="0.043500000000002633782 -0.053500000000002607969 -0.032129999999995377535" rpy="-1.5707963267948874542 -0.79995698224465738857 3.1415926535897478189" />
<geometry>
<cylinder length="0.016000000000000000333" radius="0.0080000000000000001665" />
</geometry>
</collision>
<!-- Shapes for u_base_motors_blocs -->
<collision>
<origin xyz="1.4762496780562628373e-15 -0.036875000000000462963 0.028170000000003303509" rpy="1.5707963267949351938 1.5707963267948670261 0" />
<geometry>
<box size="0.052340000000000004576 0.02999999999999999889 0.0062500000000000003469" />
</geometry>
</collision>
<!-- Shapes for cleat -->
<collision>
<origin xyz="-0.032499999999997530864 -0.053499999999999610367 -0.032129999999997535531" rpy="-1.5707963267948901187 -0.086503880229796090151 3.1415926535897540361" />
<geometry>
<cylinder length="0.016000000000000000333" radius="0.0080000000000000001665" />
</geometry>
</collision>
<!-- Shapes for cleat -->
<collision>
<origin xyz="0.043499999999998512079 -0.053500000000001719791 0.10947000000000467468" rpy="-1.5707963267947662178 -1.5212200824455746062 3.1415926535896221417" />
<geometry>
<cylinder length="0.016000000000000000333" radius="0.0080000000000000001665" />
</geometry>
</collision>
<!-- Shapes for foot_plate -->
<collision>
<origin xyz="0.0055000000000009789322 -0.041500000000000647482 0.038670000000003500185" rpy="-1.5707963267949029973 -2.8955136899265411491e-14 -3.8626551064056153461e-14" />
<geometry>
<box size="0.091999999999999998446 0.1575999999999999901 0.0030000000000000000625" />
</geometry>
</collision>
<!-- Shapes for cleat -->
<collision>
<origin xyz="-0.032500000000001534606 -0.0534999999999987777 0.1094700000000025375" rpy="-1.5707963267948901187 0.019369496889519402516 3.1415926535897549243" />
<geometry>
<cylinder length="0.016000000000000000333" radius="0.0080000000000000001665" />
</geometry>
</collision>
<visual>
<origin xyz="0 0 0" rpy="0 -0 0" />
<geometry>
<mesh filename="package://sigmaban_description/urdf/left_foot_cleat_front_right_visual.stl"/>
</geometry>
<material name="left_foot_cleat_front_right_material">
<color rgba="0.30196078431372547213 0.30093481115542580762 0.2985408737860601458 1.0"/>
</material>
</visual>
<inertial>
<origin xyz="0.0045444467896919703981 -0.036554210534013545364 0.046646141434125924785" rpy="0 0 0"/>
<mass value="0.28185582496698080579" />
<inertia ixx="0.00071822426056174150811" ixy="2.509109339611377301e-06"  ixz="-4.6415033481460829217e-06" iyy="0.00092244501368009225103" iyz="-1.4353691871045213082e-05" izz="0.00026531274718818520855" />
</inertial>
</link>

<link name="left_foot">
<inertial>
<origin xyz="0 0 0" rpy="0 0 0" />
<mass value="1e-9" />
<inertia ixx="0" ixy="0" ixz="0" iyy="0" iyz="0" izz="0" />
</inertial>
</link>
<joint name="left_foot_frame" type="fixed">
<origin xyz="0.0029999999999995585753 -0.061499999999999499511 0.036170000000003685314" rpy="-1.5707963267949351938 -1.5707963267948670261 0" />
<parent link="left_foot_cleat_front_right" />
<child link="left_foot" />
<axis xyz="0 0 0"/>
</joint>

<link name="l_sole"/>
<joint name="l_sole_frame" type="fixed">
<origin xyz="0 0 0" rpy="0 0 0" />
<parent link="left_foot" />
<child link="l_sole" />
</joint>


<joint name="LAnkleRoll" type="revolute">
<origin xyz="0.023400000000019932633 1.9984014443252817728e-15 -0.028500000000009760581" rpy="-1.373109095316520288e-15 -1.5707963267948961139 0" />
<parent link="mx106_block_mir_ankle" />
<child link="left_foot_cleat_front_right" />
<axis xyz="0 0 1"/>
<limit effort="10" velocity="6" lower="-0.785398163397448279" upper="0.785398163397448279"/>
<joint_properties friction="0.0"/>
</joint>

<joint name="LAnklePitch" type="revolute">
<origin xyz="-4.6447221069279009953e-16 0.13999999999999993006 1.3877787807814456755e-17" rpy="-3.3306690738665106266e-16 1.238592561846688481e-15 -3.141592653589793116" />
<parent link="tibia_2023" />
<child link="mx106_block_mir_ankle" />
<axis xyz="0 0 1"/>
<limit effort="10" velocity="6" lower="-1.570796326794896558" upper="1.570796326794896558"/>
<joint_properties friction="0.0"/>
</joint>

<joint name="LKnee" type="revolute">
<origin xyz="7.6674777638174873573e-16 0.14000000000002160716 -0.0009999999999908693038" rpy="-2.0988219545715784156e-15 -1.1804793254014940395e-15 2.839899258795644181e-29" />
<parent link="left_knee_2023" />
<child link="tibia_2023" />
<axis xyz="0 0 1"/>
<limit effort="10" velocity="6" lower="-0" upper="3.141592653589793116"/>
<joint_properties friction="0.0"/>
</joint>

<joint name="LHipPitch" type="revolute">
<origin xyz="0.029500000000009907186 1.5751289161869408417e-15 0.023400000000018298524" rpy="3.1415926535897926719 -1.5707963267948925612 0" />
<parent link="mx106_block_hip__list_0bj1pweadmbeeq_hip" />
<child link="left_knee_2023" />
<axis xyz="0 0 1"/>
<limit effort="10" velocity="6" lower="-1.570796326794896558" upper="1.570796326794896558"/>
<joint_properties friction="0.0"/>
</joint>

<joint name="LHipRoll" type="revolute">
<origin xyz="0.023399999999999993722 0 -0.04000000000000001471" rpy="1.570796326794896558 4.9856009209967390067e-28 -1.57079632679489678" />
<parent link="u_block_2023" />
<child link="mx106_block_hip__list_0bj1pweadmbeeq_hip" />
<axis xyz="0 0 1"/>
<limit effort="10" velocity="6" lower="-0.52359877559829881566" upper="0.61086523819801530344"/>
<joint_properties friction="0.0"/>
</joint>

<joint name="LHipYaw" type="revolute">
<origin xyz="0.0033892048686650008693 0.04640014717406074074 -0.021000000000001701334" rpy="4.811819888172199206e-14 1.4904713170580737495e-14 -3.1342126022195269108" />
<parent link="torso_2023" />
<child link="u_block_2023" />
<axis xyz="0 0 1"/>
<limit effort="10" velocity="6" lower="-1.0471975511965976313" upper="1.0471975511965976313"/>
<joint_properties friction="0.0"/>
</joint>

<link name="u_block_2023_2">
<!-- Shapes for u_side_small_2023 -->
<collision>
<origin xyz="-0.031439999999999995728 2.9143354396410359186e-16 -0.023750000000000003747" rpy="1.570796326794896558 -1.0499738648491914655e-27 1.57079632679489678" />
<geometry>
<box size="0.037499999999999998612 0.047500000000000000555 0.0030000000000000000625" />
</geometry>
</collision>
<!-- Shapes for u_side_small_with_trace_2023 -->
<collision>
<origin xyz="0.021899999999999995859 -9.7144514654701197287e-17 -0.023750000000000010686" rpy="-1.570796326794896558 -2.4612460242895433804e-28 -1.5707963267948954478" />
<geometry>
<box size="0.037499999999999998612 0.047500000000000000555 0.0030000000000000000625" />
</geometry>
</collision>
<visual>
<origin xyz="0 0 0" rpy="0 -0 0" />
<geometry>
<mesh filename="package://sigmaban_description/urdf/u_block_2023_2_visual.stl"/>
</geometry>
<material name="u_block_2023_2_material">
<color rgba="0.30196078431372547213 0.30196078431372547213 0.30196078431372547213 1.0"/>
</material>
</visual>
<inertial>
<origin xyz="-0.0050949059968970842466 3.3621005712157433804e-05 -0.0098513101413465788136" rpy="0 0 0"/>
<mass value="0.063013635376408722033" />
<inertia ixx="2.0270940898426988554e-05" ixy="5.6491314096496230294e-08"  ixz="-2.0232353087303246486e-06" iyy="4.2425250270775865667e-05" iyz="5.6114809043106517712e-08" izz="3.5257700450344276681e-05" />
</inertial>
</link>

<link name="mx106_block_mir_hip__list_mr67plvazplf9a_hip">
<!-- Shapes for mx106 -->
<collision>
<origin xyz="6.9388939039071998739e-18 -0.018050000000000003542 -0.025999999999999995337" rpy="3.9443045261050581512e-31 1.6865018419759483207e-29 0" />
<geometry>
<box size="0.040199999999999999623 0.065099999999999991207 0.045999999999999999223" />
</geometry>
</collision>
<!-- Shapes for mx106 -->
<collision>
<origin xyz="2.2656388159760541343e-15 -0.018049999999999899458 0.023400000000012265156" rpy="1.5720758028692191369e-13 -1.5707963267948590325 0" />
<geometry>
<box size="0.040199999999999999623 0.065099999999999991207 0.045999999999999999223" />
</geometry>
</collision>
<visual>
<origin xyz="0 0 0" rpy="0 -0 0" />
<geometry>
<mesh filename="package://sigmaban_description/urdf/mx106_block_mir_hip__list_mr67plvazplf9a_hip_visual.stl"/>
</geometry>
<material name="mx106_block_mir_hip__list_mr67plvazplf9a_hip_material">
<color rgba="0.30196078431372541662 0.30196078431372541662 0.30196078431372541662 1.0"/>
</material>
</visual>
<inertial>
<origin xyz="0.00052753870022482270835 -0.015396401985192931239 0.0038224253330314708448" rpy="0 0 0"/>
<mass value="0.39709667579512247793" />
<inertia ixx="0.00042850163757161960007" ixy="-2.089796984351987033e-06"  ixz="-4.1603634636162852188e-06" iyy="0.00037070883372999875131" iyz="-3.1097942980207547291e-05" izz="0.00018178585387409359185" />
</inertial>
</link>

<link name="right_knee_2023">
<!-- Shapes for u_side_femur_2023 -->
<collision>
<origin xyz="4.3368086899451021128e-19 -0.037249999999999991451 -0.0015000000000000026333" rpy="3.141592653589793116 -1.8608358460305281247e-28 -7.8886090522101180541e-31" />
<geometry>
<box size="0.02999999999999999889 0.096500000000000002442 0.0030000000000000000625" />
</geometry>
</collision>
<!-- Shapes for u_side_femur_mir_2023 -->
<collision>
<origin xyz="2.3605107741876429032e-15 -0.037249999999998263667 0.057000000000000793088" rpy="-1.5521415202872842641e-14 4.3218900680485566105e-14 -2.7929047963232088636e-15" />
<geometry>
<box size="0.02999999999999999889 0.096500000000000002442 0.0030000000000000000625" />
</geometry>
</collision>
<!-- Shapes for mx106 -->
<collision>
<origin xyz="3.2163304136956578056e-16 -0.12195000000002537144 0.029499999999993191391" rpy="-3.1415926535897722438 3.1374208786515176269e-14 3.4635488921353921256e-14" />
<geometry>
<box size="0.040199999999999999623 0.065099999999999991207 0.045999999999999999223" />
</geometry>
</collision>
<visual>
<origin xyz="0 0 0" rpy="0 -0 0" />
<geometry>
<mesh filename="package://sigmaban_description/urdf/right_knee_2023_visual.stl"/>
</geometry>
<material name="right_knee_2023_material">
<color rgba="0.30196078431372547213 0.30196078431372547213 0.30196078431372547213 1.0"/>
</material>
</visual>
<inertial>
<origin xyz="-3.0553573382522570417e-05 -0.10076603301831110748 0.029699873205946827198" rpy="0 0 0"/>
<mass value="0.26776918673594685139" />
<inertia ixx="0.00053571855681478614247" ixy="1.3722075397588938187e-07"  ixz="-6.2591971620997953175e-09" iyy="0.00012197339981637886287" iyz="1.3692241520979617968e-05" izz="0.00045904851754741680166" />
</inertial>
</link>

<link name="tibia_2023_2">
<!-- Shapes for tibia_plate_2023 -->
<collision>
<origin xyz="-0.006213099999990981219 0.068950999999995751799 0.055939999999998685221" rpy="3.1415926535897873428 -3.8004321911697914517e-14 -3.1415926535897829019" />
<geometry>
<box size="0.04042620000000000241 0.1700990000000000002 0.0030000000000000000625" />
</geometry>
</collision>
<!-- Shapes for tibia_plate_2023 -->
<collision>
<origin xyz="-0.0062131000000000009137 0.068950999999999998402 -0.0014999999999999861534" rpy="3.141592653589793116 -3.4694469517341198049e-18 3.141592653589793116" />
<geometry>
<box size="0.04042620000000000241 0.1700990000000000002 0.0030000000000000000625" />
</geometry>
</collision>
<visual>
<origin xyz="0 0 0" rpy="0 -0 0" />
<geometry>
<mesh filename="package://sigmaban_description/urdf/tibia_2023_2_visual.stl"/>
</geometry>
<material name="tibia_2023_2_material">
<color rgba="0.30196078431372547213 0.30196078431372547213 0.30196078431372547213 1.0"/>
</material>
</visual>
<inertial>
<origin xyz="-0.0028913753365892125129 0.065442665826058801781 0.026734628649552116819" rpy="0 0 0"/>
<mass value="0.10514218166037306301" />
<inertia ixx="0.00034688180105246226546" ixy="-6.3819851304390528616e-06"  ixz="1.4756104805157776419e-07" iyy="9.8374305485233941673e-05" iyz="2.3259862708960571037e-07" izz="0.00026979716953318675678" />
</inertial>
</link>

<link name="mx106_block_ankle__list_0bj1pweadmbeeq_default">
<!-- Shapes for mx106 -->
<collision>
<origin xyz="3.0357660829594136478e-17 -0.018050000000000170075 0.028500000000010003443" rpy="3.141592653589793116 2.5373944181513879921e-28 -3.141592653589793116" />
<geometry>
<box size="0.040199999999999999623 0.065099999999999991207 0.045999999999999999223" />
</geometry>
</collision>
<!-- Shapes for mx106 -->
<collision>
<origin xyz="-0.049400000000020004298 -0.018049999999999954969 0.028500000000010072831" rpy="-9.2644242016574441323e-23 1.570796326794896558 0" />
<geometry>
<box size="0.040199999999999999623 0.065099999999999991207 0.045999999999999999223" />
</geometry>
</collision>
<visual>
<origin xyz="0 0 0" rpy="0 -0 0" />
<geometry>
<mesh filename="package://sigmaban_description/urdf/mx106_block_ankle__list_0bj1pweadmbeeq_default_visual.stl"/>
</geometry>
<material name="mx106_block_ankle__list_0bj1pweadmbeeq_default_material">
<color rgba="0.30196078431372541662 0.30196078431372541662 0.30196078431372541662 1.0"/>
</material>
</visual>
<inertial>
<origin xyz="-0.019572401009989238291 -0.015396401985201089643 0.029025166915077751234" rpy="0 0 0"/>
<mass value="0.39709667579512247793" />
<inertia ixx="0.00018178880446396869465" ixy="-3.114147575544874805e-05"  ixz="-4.1062666594564375136e-06" iyy="0.00037079025525090506714" iyz="-2.0805509255757983854e-06" izz="0.00042858010850244083025" />
</inertial>
</link>

<link name="right_foot_cleat_back_left">
<!-- Shapes for u_base_motors_blocs -->
<collision>
<origin xyz="3.417405247674309976e-16 -0.036875000000001302569 0.028170000000003227181" rpy="1.5707963267949054398 1.570796326794841713 0" />
<geometry>
<box size="0.052340000000000004576 0.02999999999999999889 0.0062500000000000003469" />
</geometry>
</collision>
<!-- Shapes for cleat -->
<collision>
<origin xyz="-0.043499999999999428013 -0.053499999999997369104 -0.032129999999998326565" rpy="1.5707963267950397768 -1.1719174185838625579 -1.4562743463413491521e-13" />
<geometry>
<cylinder length="0.016000000000000000333" radius="0.0080000000000000001665" />
</geometry>
</collision>
<!-- Shapes for foot_plate -->
<collision>
<origin xyz="-0.0054999999999997637584 -0.041500000000001868727 0.038670000000002924256" rpy="-1.5707963267948399366 -7.8582973461754015656e-15 -8.9151391897941728726e-15" />
<geometry>
<box size="0.091999999999999998446 0.1575999999999999901 0.0030000000000000000625" />
</geometry>
</collision>
<!-- Shapes for cleat -->
<collision>
<origin xyz="0.032500000000000708877 -0.053499999999998049116 -0.032129999999997785332" rpy="-1.5707963267950937336 1.2836470252590890251 3.141592653589579065" />
<geometry>
<cylinder length="0.016000000000000000333" radius="0.0080000000000000001665" />
</geometry>
</collision>
<!-- Shapes for cleat -->
<collision>
<origin xyz="-0.043500000000000357825 -0.053500000000005716594 0.10947000000000232933" rpy="1.5707963267954050401 -1.4586817975653372237 -5.3885283641449396517e-13" />
<geometry>
<cylinder length="0.016000000000000000333" radius="0.0080000000000000001665" />
</geometry>
</collision>
<!-- Shapes for cleat -->
<collision>
<origin xyz="0.032499999999999612532 -0.0535000000000060566 0.1094700000000029122" rpy="-1.5707963267950568742 -1.2146438330590096921 -3.1415926535896381289" />
<geometry>
<cylinder length="0.016000000000000000333" radius="0.0080000000000000001665" />
</geometry>
</collision>
<visual>
<origin xyz="0 0 0" rpy="0 -0 0" />
<geometry>
<mesh filename="package://sigmaban_description/urdf/right_foot_cleat_back_left_visual.stl"/>
</geometry>
<material name="right_foot_cleat_back_left_material">
<color rgba="0.30196078431372541662 0.30093481115542580762 0.29854087378606020131 1.0"/>
</material>
</visual>
<inertial>
<origin xyz="-0.0045443948701719095659 -0.036554210534015252332 0.046646141434125570902" rpy="0 0 0"/>
<mass value="0.2818558249669808613" />
<inertia ixx="0.00071822426056174367651" ixy="-2.5093325733322183397e-06"  ixz="4.6417350201811620762e-06" iyy="0.0009224449850517641358" iyz="-1.4353691871003549225e-05" izz="0.00026531271855985053389" />
</inertial>
</link>

<link name="right_foot">
<inertial>
<origin xyz="0 0 0" rpy="0 0 0" />
<mass value="1e-9" />
<inertia ixx="0" ixy="0" ixz="0" iyy="0" iyz="0" izz="0" />
</inertial>
</link>
<joint name="right_foot_frame" type="fixed">
<origin xyz="-0.0029999999999998708256 -0.061500000000001275868 0.036170000000001908957" rpy="-1.5707963267949054398 -1.5707963267948401587 0" />
<parent link="right_foot_cleat_back_left" />
<child link="right_foot" />
<axis xyz="0 0 0"/>
</joint>

<link name="r_sole"/>
<joint name="r_sole_frame" type="fixed">
<origin xyz="0 0 0" rpy="0 0 0" />
<parent link="right_foot" />
<child link="r_sole" />
</joint>

<joint name="RAnkleRoll" type="revolute">
<origin xyz="-0.023400000000020335089 1.1102230246251565404e-16 0.02850000000001007977" rpy="-3.141592653589793116 -1.5707963267948872321 0" />
<parent link="mx106_block_ankle__list_0bj1pweadmbeeq_default" />
<child link="right_foot_cleat_back_left" />
<axis xyz="0 0 1"/>
<limit effort="10" velocity="6" lower="-0.785398163397448279" upper="0.785398163397448279"/>
<joint_properties friction="0.0"/>
</joint>

<joint name="RAnklePitch" type="revolute">
<origin xyz="3.7903707950093235013e-16 0.13999999999999998557 2.7755575615628913511e-17" rpy="-2.2999513674697388823e-15 1.3912482277331527707e-15 4.9436401737054287372e-16" />
<parent link="tibia_2023_2" />
<child link="mx106_block_ankle__list_0bj1pweadmbeeq_default" />
<axis xyz="0 0 1"/>
<limit effort="10" velocity="6" lower="-1.570796326794896558" upper="1.570796326794896558"/>
<joint_properties friction="0.0"/>
</joint>

<joint name="RKnee" type="revolute">
<origin xyz="3.3089850304257595326e-16 -0.14000000000002205125 0.00099999999998860722439" rpy="-7.7073639491941966807e-14 -1.4675760606762180715e-15 3.1415926535897926719" />
<parent link="right_knee_2023" />
<child link="tibia_2023_2" />
<axis xyz="0 0 1"/>
<limit effort="10" velocity="6" lower="0" upper="3.141592653589793116"/>
<joint_properties friction="0.0"/>
</joint>

<joint name="RHipPitch" type="revolute">
<origin xyz="-0.029500000000008623491 -6.9388939039072283776e-16 0.023400000000012088214" rpy="-2.4835167061004709567e-14 1.5707963267948934494 0" />
<parent link="mx106_block_mir_hip__list_mr67plvazplf9a_hip" />
<child link="right_knee_2023" />
<axis xyz="0 0 1"/>
<limit effort="10" velocity="6" lower="-1.570796326794896558" upper="1.570796326794896558"/>
<joint_properties friction="0.0"/>
</joint>

<joint name="RHipRoll" type="revolute">
<origin xyz="0.023400000000000000661 1.8041124150158793782e-15 -0.040000000000000021649" rpy="1.5707963267948936714 -6.8695049648709969792e-16 -1.5707963267948972241" />
<parent link="u_block_2023_2" />
<child link="mx106_block_mir_hip__list_mr67plvazplf9a_hip" />
<axis xyz="0 0 1"/>
<limit effort="10" velocity="6" lower="-0.61086523819801530344" upper="0.52359877559829881566"/>
<joint_properties friction="0.0"/>
</joint>

<joint name="RHipYaw" type="revolute">
<origin xyz="0.0033892048686646053524 -0.046399852825939190415 -0.021000000000002322365" rpy="-6.8332004219422605546e-15 -5.4790940367335168281e-15 -3.1176144146104105559" />
<parent link="torso_2023" />
<child link="u_block_2023_2" />
<axis xyz="0 0 1"/>
<limit effort="10" velocity="6" lower="-1.0471975511965976313" upper="1.0471975511965976313"/>
<joint_properties friction="0.0"/>
</joint>


</robot>
